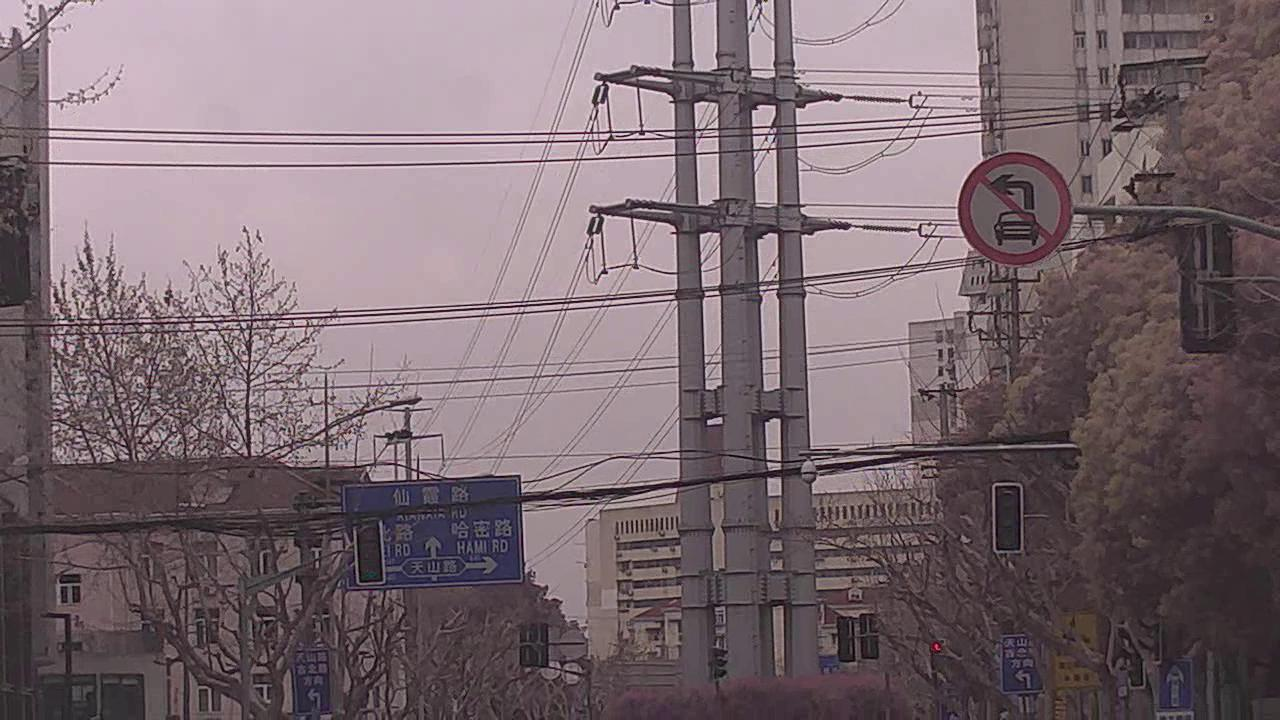traffic_light: (357, 521, 388, 585), (993, 483, 1021, 552)
